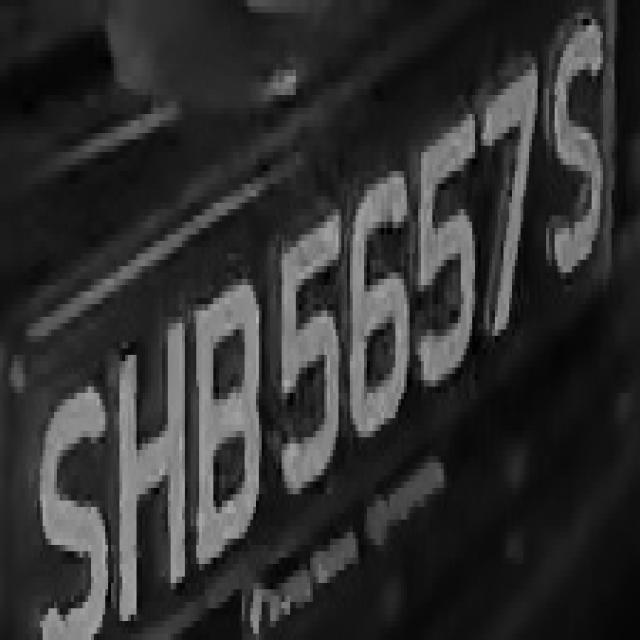5: (273, 209, 347, 507), (409, 127, 484, 393)
6: (336, 184, 415, 450)
7: (472, 89, 543, 342)
B: (188, 266, 270, 570)
H: (106, 323, 196, 615)
S: (28, 374, 116, 627), (540, 25, 618, 266)
